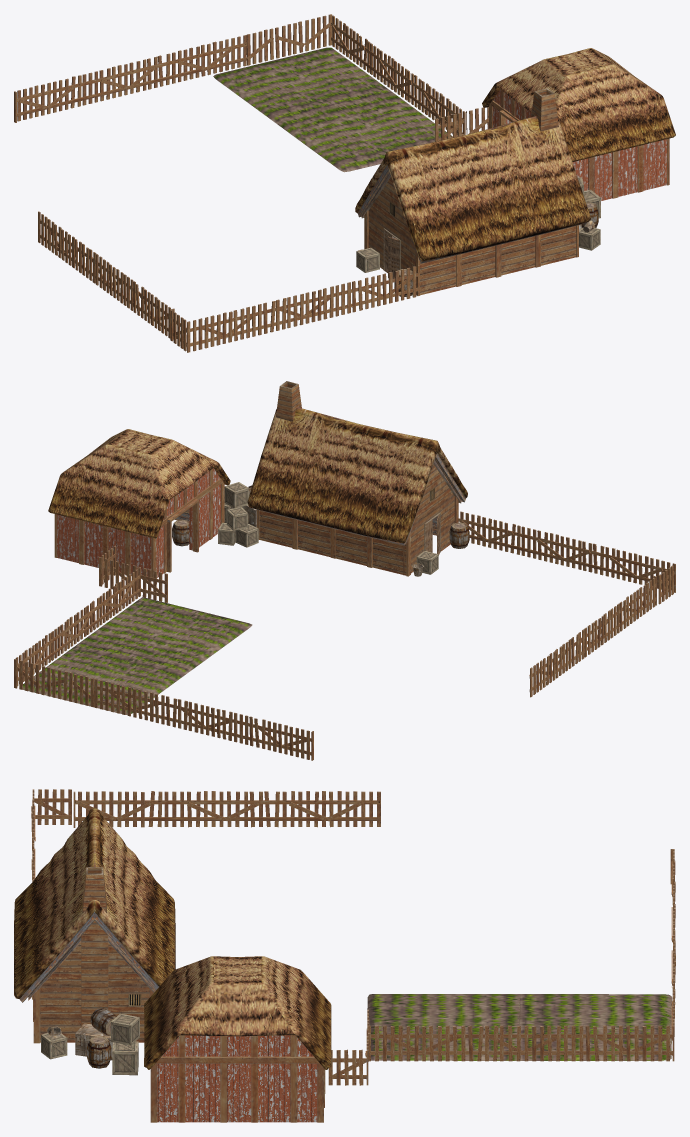
Rendered from cow farm.fbx.
The picture shows the model from 3 angles, top to bottom: view 1: azimuth 30°, elevation 25°; view 2: azimuth 150°, elevation 25°; view 3: azimuth 270°, elevation 25°; orthographic projection. The views are drawn at different scales.
Parts seen in each view (by area): view 1: house, fence; view 2: house, fence; view 3: house, fence.
Part boxes in pixels (x1,y1,x2,y2): house: (213, 47, 675, 296); fence: (14, 14, 465, 352); house: (22, 381, 469, 714); fence: (14, 511, 675, 760); house: (14, 807, 672, 1122); fence: (31, 789, 675, 1061).
Bounding box in the file's own units: 2999 × 786 × 2786.
Materials: 1 (1 with a texture image).
